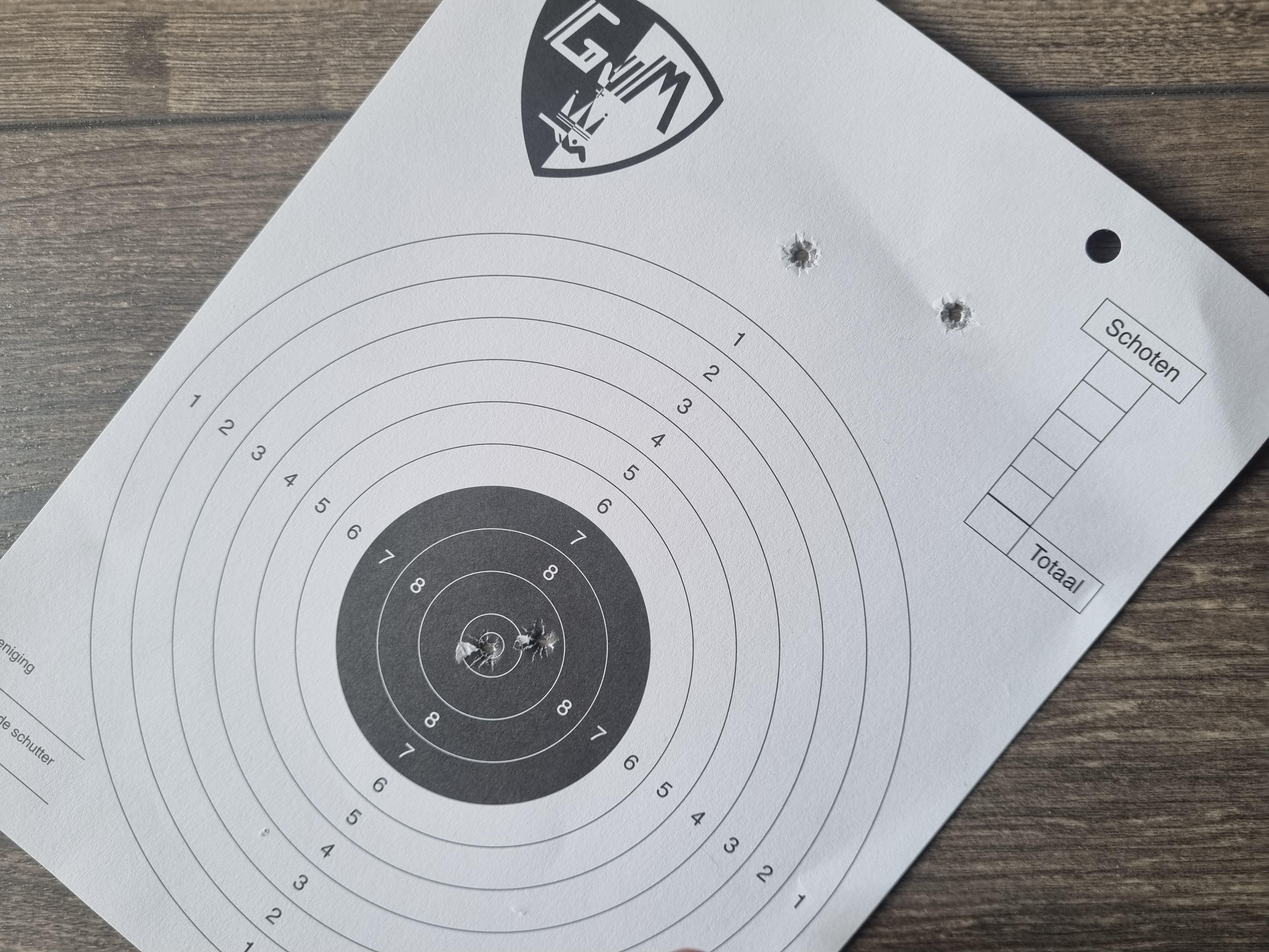hole: (386, 386, 444, 422), (375, 342, 427, 376), (901, 586, 957, 617), (823, 704, 874, 729)
